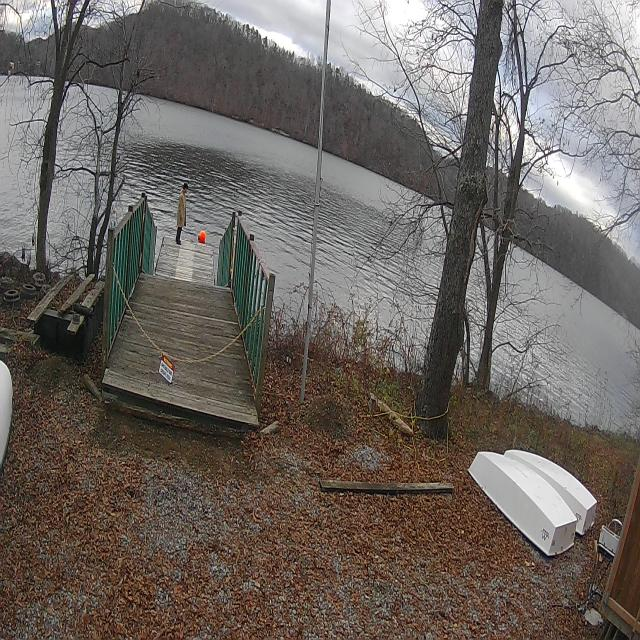Buoy: (196, 228, 208, 244)
